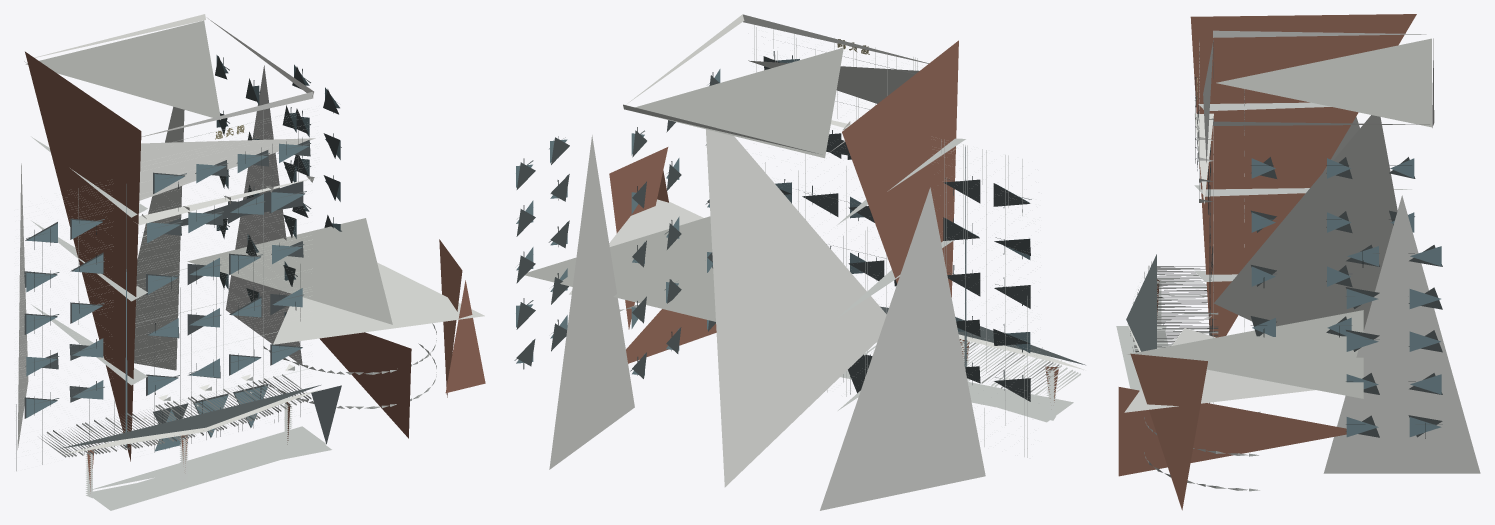
3 views of the same model, side by side, from view 1: azimuth 30°, elevation 25°; view 2: azimuth 150°, elevation 25°; view 3: azimuth 270°, elevation 25° (orthographic). The views are drawn at different scales.
Visible parts, largest first — view 1: 逸夫楼 · Yifu reddish brown stone.003, 逸夫楼 · Yifu off-white ceramic facade.003, 逸夫楼 · Yifu roof membrane.003, 逸夫楼 · Yifu ceramic joints.003, 逸夫楼 · Yifu blue grey glass.003, 逸夫楼 · Yifu charcoal window frames.003, 逸夫楼 · Yifu canopy edges.003; view 2: 逸夫楼 · Yifu off-white ceramic facade.003, 逸夫楼 · Yifu reddish brown stone.003, 逸夫楼 · Yifu roof membrane.003, 逸夫楼 · Yifu charcoal window frames.003, 逸夫楼 · Yifu ceramic joints.003, 逸夫楼 · Yifu blue grey glass.003, 逸夫楼 · Yifu canopy edges.003; view 3: 逸夫楼 · Yifu off-white ceramic facade.003, 逸夫楼 · Yifu reddish brown stone.003, 逸夫楼 · Yifu roof membrane.003, 逸夫楼 · Yifu ceramic joints.003, 逸夫楼 · Yifu blue grey glass.003, 逸夫楼 · Yifu charcoal window frames.003, 逸夫楼 · Yifu canopy edges.003.
Boxes of the visible parts, x1,y1,x2,y2 form: 逸夫楼 · Yifu reddish brown stone.003: (25,51,485,491); 逸夫楼 · Yifu off-white ceramic facade.003: (17,14,484,449); 逸夫楼 · Yifu roof membrane.003: (25,20,392,324); 逸夫楼 · Yifu ceramic joints.003: (14,109,436,510); 逸夫楼 · Yifu blue grey glass.003: (26,55,340,451); 逸夫楼 · Yifu charcoal window frames.003: (24,56,341,448); 逸夫楼 · Yifu canopy edges.003: (63,175,321,454); 逸夫楼 · Yifu off-white ceramic facade.003: (549,14,985,510); 逸夫楼 · Yifu reddish brown stone.003: (609,40,1058,402); 逸夫楼 · Yifu roof membrane.003: (525,47,843,321); 逸夫楼 · Yifu charcoal window frames.003: (514,51,1085,401); 逸夫楼 · Yifu ceramic joints.003: (619,25,1080,457); 逸夫楼 · Yifu blue grey glass.003: (516,59,1030,380); 逸夫楼 · Yifu canopy edges.003: (831,120,1085,379); 逸夫楼 · Yifu off-white ceramic facade.003: (1124,30,1480,473); 逸夫楼 · Yifu reddish brown stone.003: (1118,14,1416,510); 逸夫楼 · Yifu roof membrane.003: (1127,38,1431,398); 逸夫楼 · Yifu ceramic joints.003: (1116,39,1411,491); 逸夫楼 · Yifu blue grey glass.003: (1251,158,1441,437); 逸夫楼 · Yifu charcoal window frames.003: (1126,77,1442,438); 逸夫楼 · Yifu canopy edges.003: (1127,113,1213,351).
Size of the model in its own units: 31.2 by 24.2 by 23.2.
